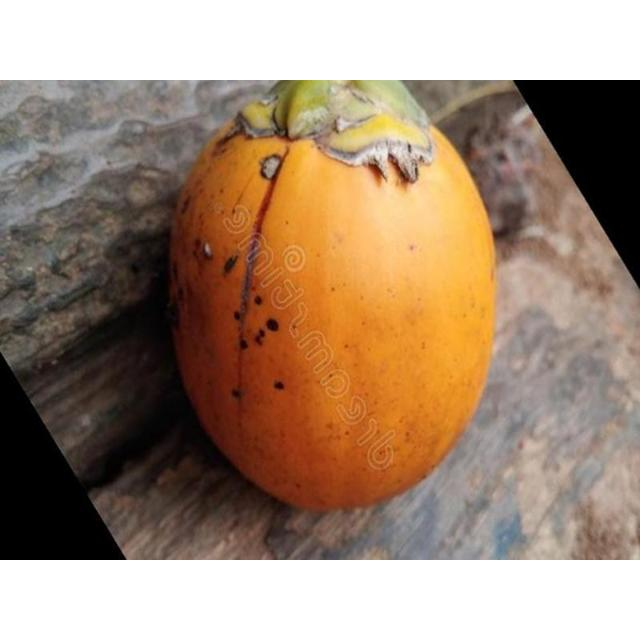good: (164, 80, 498, 514)
